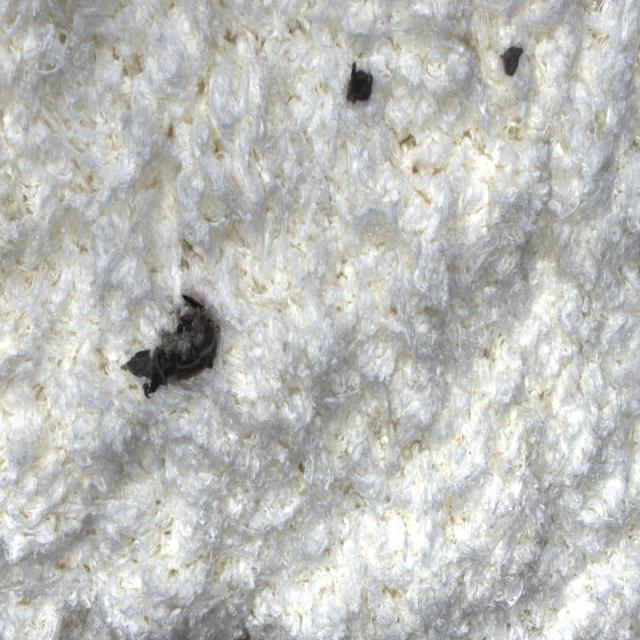dust: (115, 292, 223, 407), (491, 21, 529, 98), (339, 54, 380, 114)
